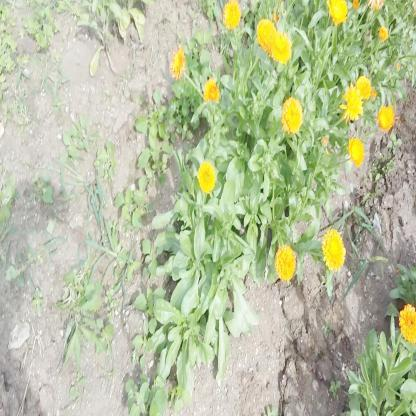marigold: (322, 229, 344, 271), (271, 29, 292, 67), (282, 97, 303, 134), (276, 247, 297, 283), (256, 15, 276, 52), (340, 85, 362, 118), (398, 305, 416, 344), (221, 0, 242, 31), (326, 0, 349, 25), (376, 102, 394, 133), (348, 134, 364, 166), (170, 47, 186, 79), (199, 160, 214, 192), (356, 73, 372, 103), (204, 75, 220, 104)
